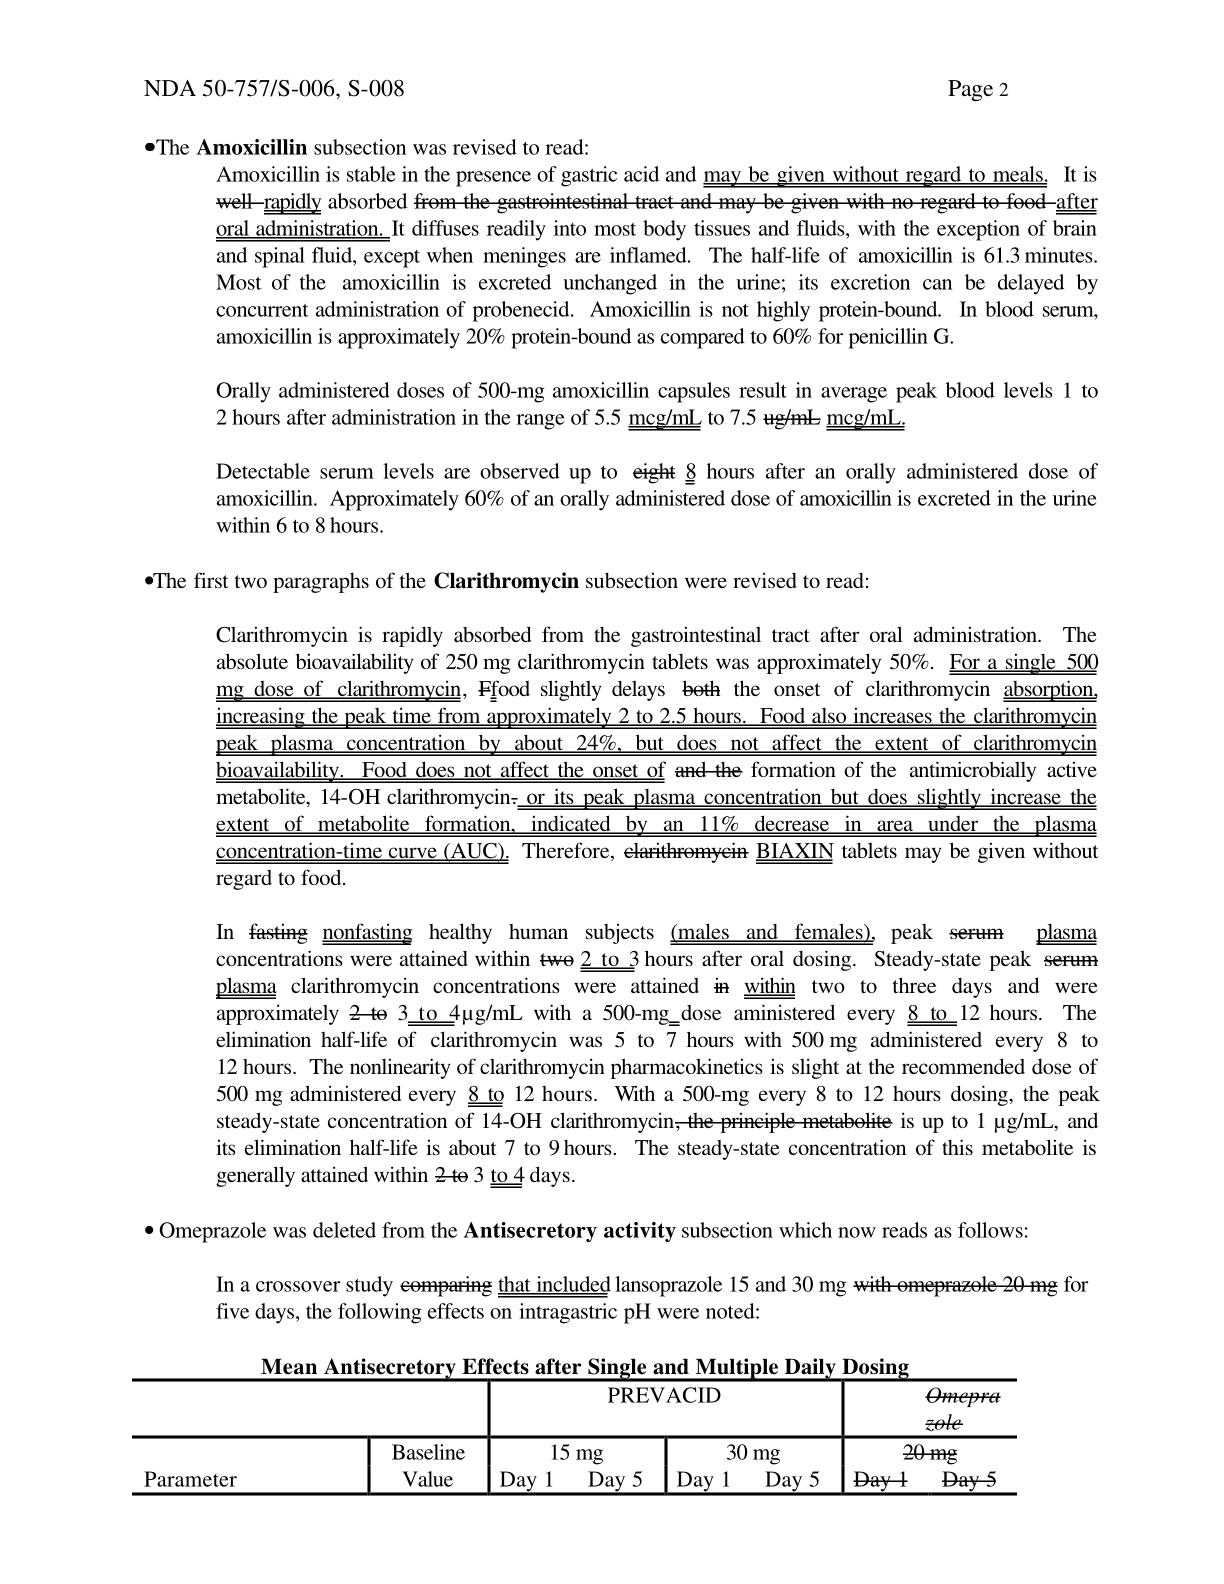partial_lined_merged_cells: (132, 1377, 1018, 1497)
